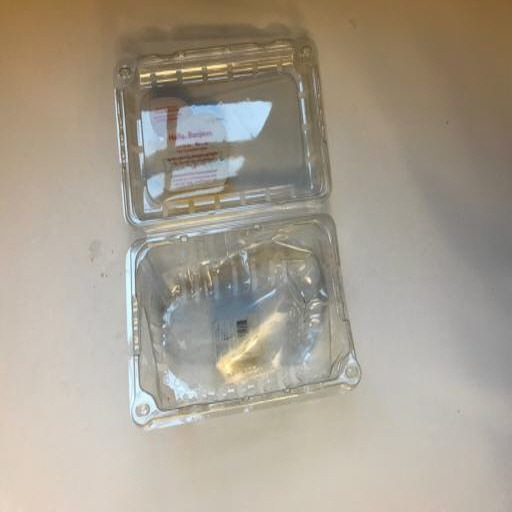Plastic_4: (110, 37, 363, 426)
